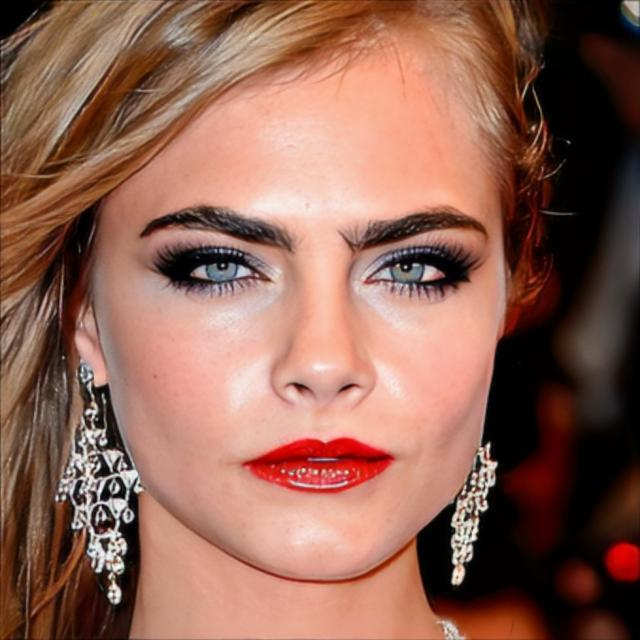anger: (100, 39, 508, 584)
